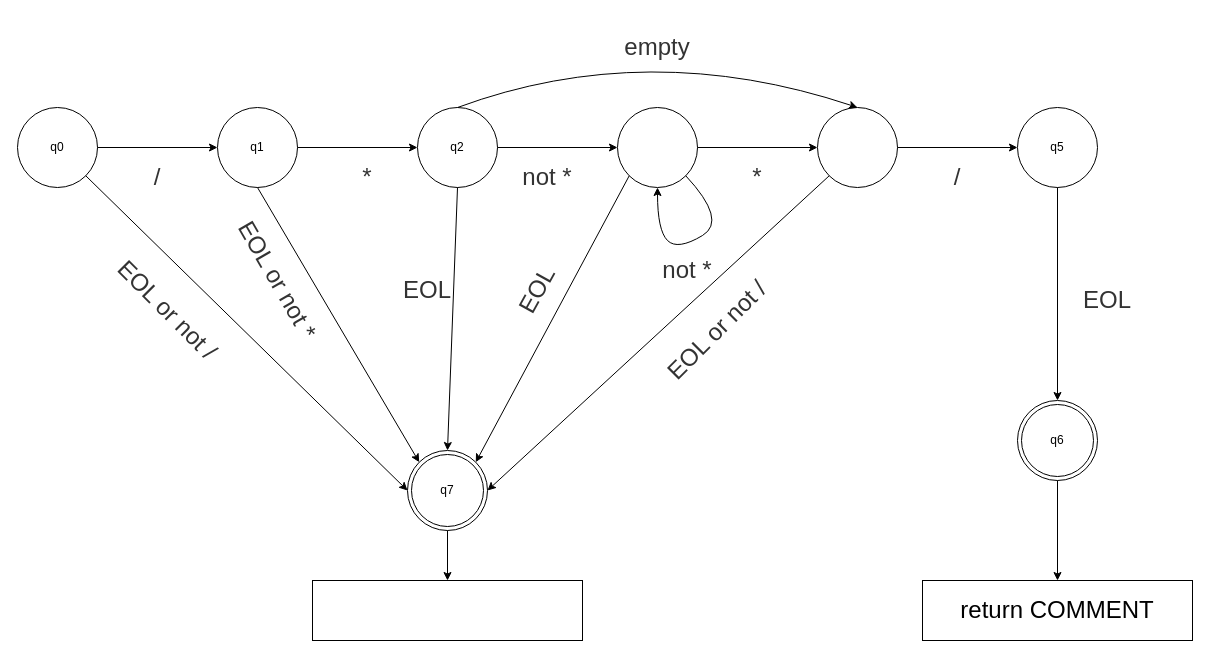
The diagram is 1210 pixels wide and 658 high, and some of its shapes have lost their labels. Here are the shapes that lost their labels. From the top down, the centre of each, then its label:
At pixel 657 147: "q3".
At pixel 857 147: "q4".
At pixel 447 610: "return SLASH_CODE".
